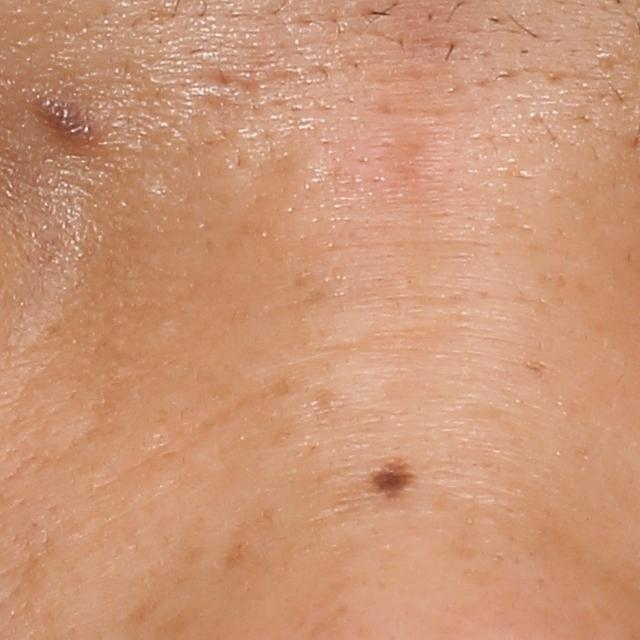nevus: (365, 450, 413, 500)
